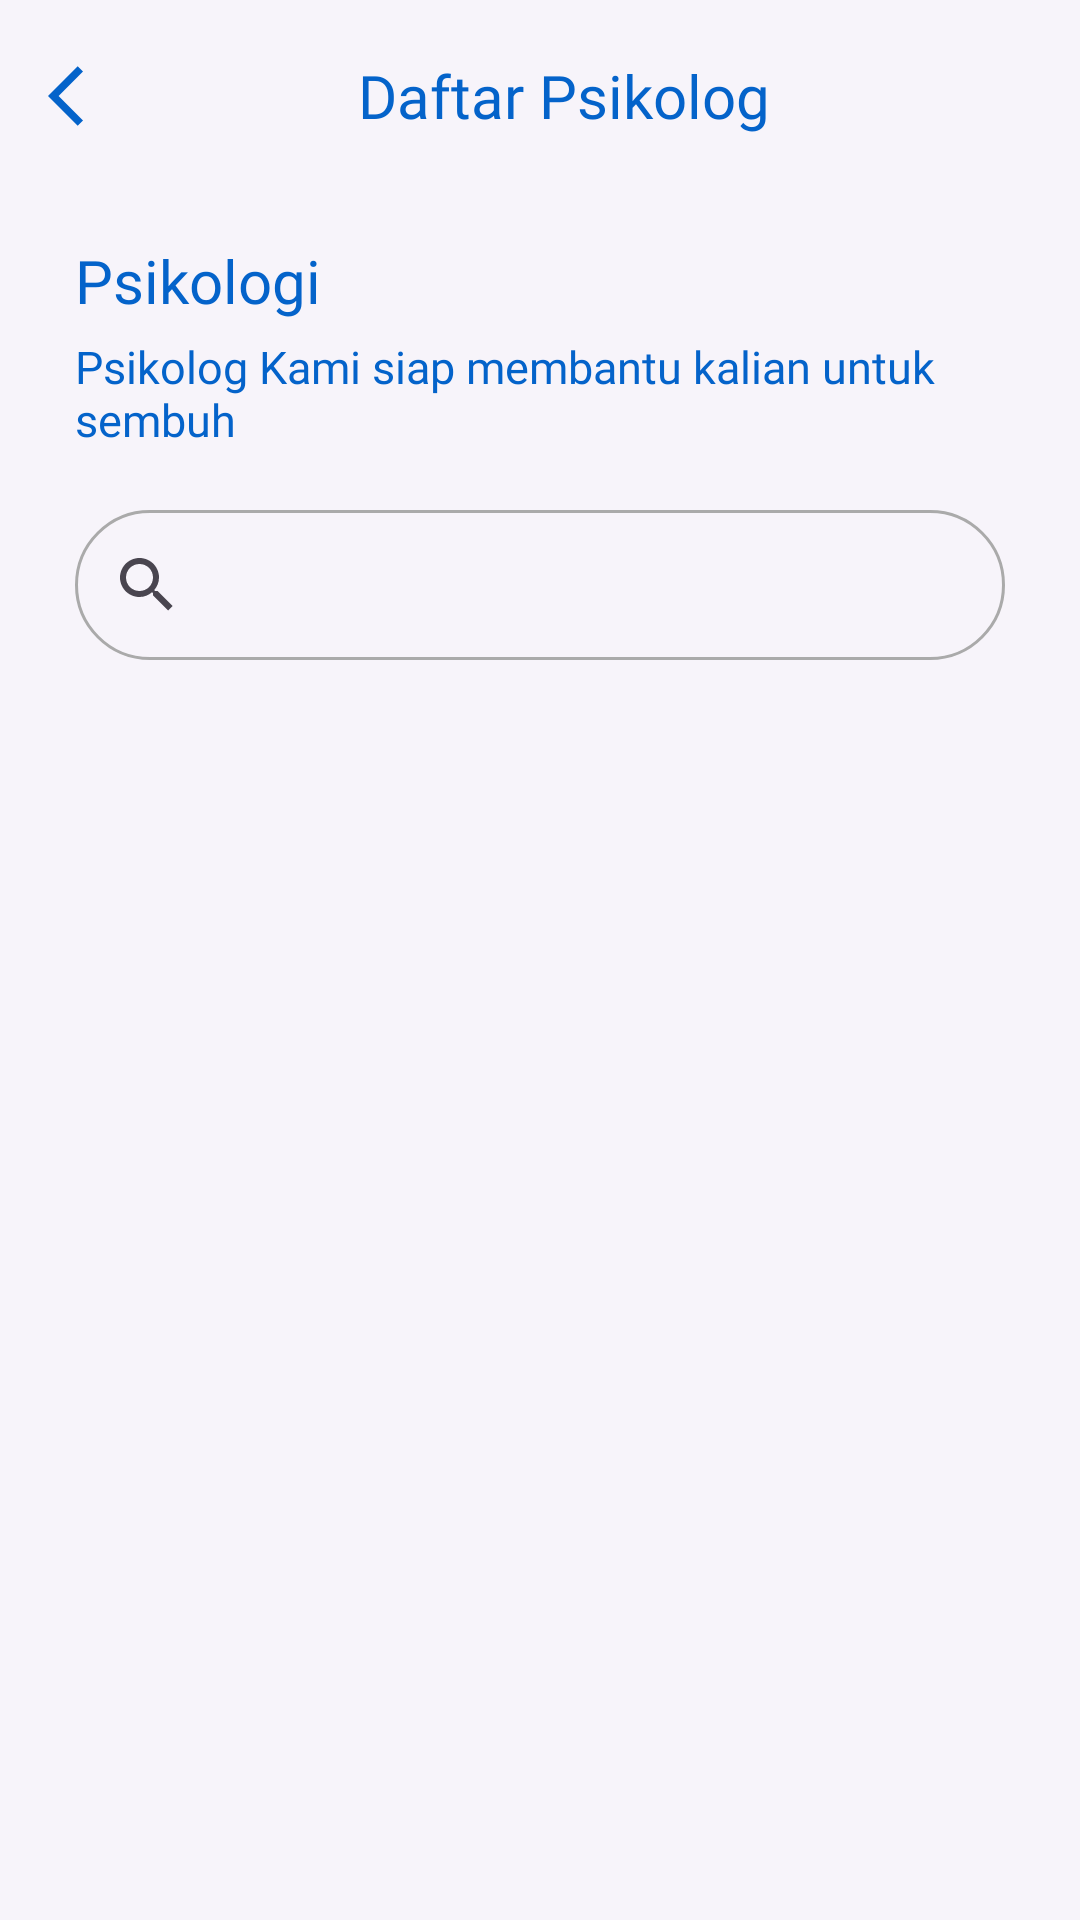

Locate icon controls on the screen. Image size 1080px×1920px, boxes as (left=x1, top=y1, right=x2, bottom=y2).
Button Back: (left=48, top=66, right=83, bottom=126)
